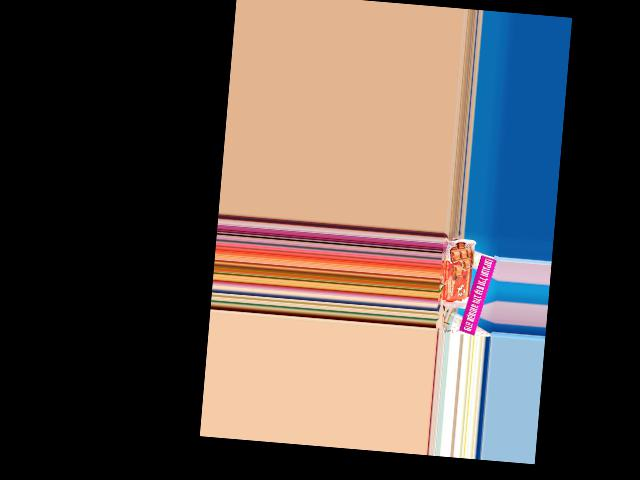chocolate: (439, 235, 477, 310)
